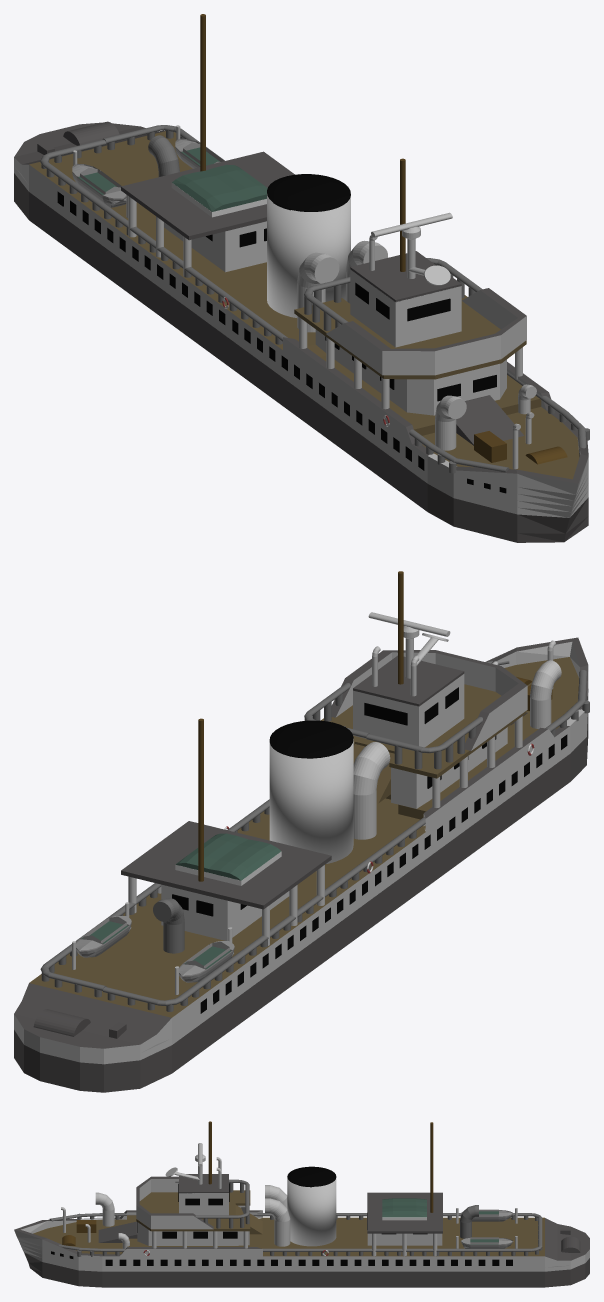
Rendered from mv-balmoral.dae.
3 renders of one model, top to bottom at view 1: azimuth 30°, elevation 25°; view 2: azimuth 150°, elevation 25°; view 3: azimuth 270°, elevation 25°, orthographic. The views are drawn at different scales.
Visible parts, largest first — view 1: Cube_3922, Cube_001, Cube_009, Cylinder_302, Cube_002, Cube_004, Cube_003, Cube_014, Cube_011, Cylinder_003, Cube_005, Cube_022 (+21 smaller); view 2: Cube_3922, Cube_001, Cylinder_302, Cube_014, Cube_002, Cube_009, Cylinder_003, Cube_003, Cube_011, Cube_004, Cube_005, Cube_022 (+18 smaller); view 3: Cube_3922, Cube_001, Cube_002, Cylinder_302, Cube_003, Cube_014, Cylinder_003, Cube_009, Cube_005, Cube_004, Cube_011, Cube_022 (+23 smaller).
Part boxes in pixels (x1,y1,x2,y2): Cube_3922: [14, 122, 588, 517]; Cube_001: [14, 173, 588, 533]; Cube_009: [326, 288, 526, 375]; Cylinder_302: [267, 194, 350, 317]; Cube_002: [14, 192, 588, 542]; Cube_004: [307, 329, 541, 435]; Cube_003: [283, 337, 588, 494]; Cube_014: [121, 151, 294, 240]; Cube_011: [350, 269, 461, 347]; Cylinder_003: [40, 125, 586, 472]; Cube_005: [294, 295, 526, 379]; Cube_022: [172, 164, 267, 211]; Cube_3922: [14, 657, 588, 1064]; Cube_001: [14, 713, 588, 1082]; Cylinder_302: [269, 739, 353, 863]; Cube_014: [121, 821, 331, 909]; Cube_002: [14, 729, 588, 1092]; Cube_009: [331, 650, 527, 750]; Cylinder_003: [40, 660, 586, 1005]; Cube_003: [423, 637, 588, 831]; Cube_011: [353, 674, 464, 747]; Cube_004: [386, 725, 534, 819]; Cube_005: [321, 684, 526, 778]; Cube_022: [175, 833, 281, 880]; Cube_3922: [17, 1217, 589, 1271]; Cube_001: [24, 1252, 589, 1282]; Cube_002: [28, 1263, 589, 1287]; Cylinder_302: [287, 1177, 336, 1246]; Cube_003: [14, 1210, 262, 1256]; Cube_014: [367, 1192, 442, 1233]; Cylinder_003: [49, 1213, 542, 1251]; Cube_009: [136, 1176, 213, 1229]; Cube_005: [136, 1190, 250, 1231]; Cube_004: [127, 1205, 249, 1246]; Cube_011: [179, 1193, 228, 1215]; Cube_022: [382, 1198, 426, 1217].
Size of the model in its own units: 2.79 by 17.24 by 4.83.
